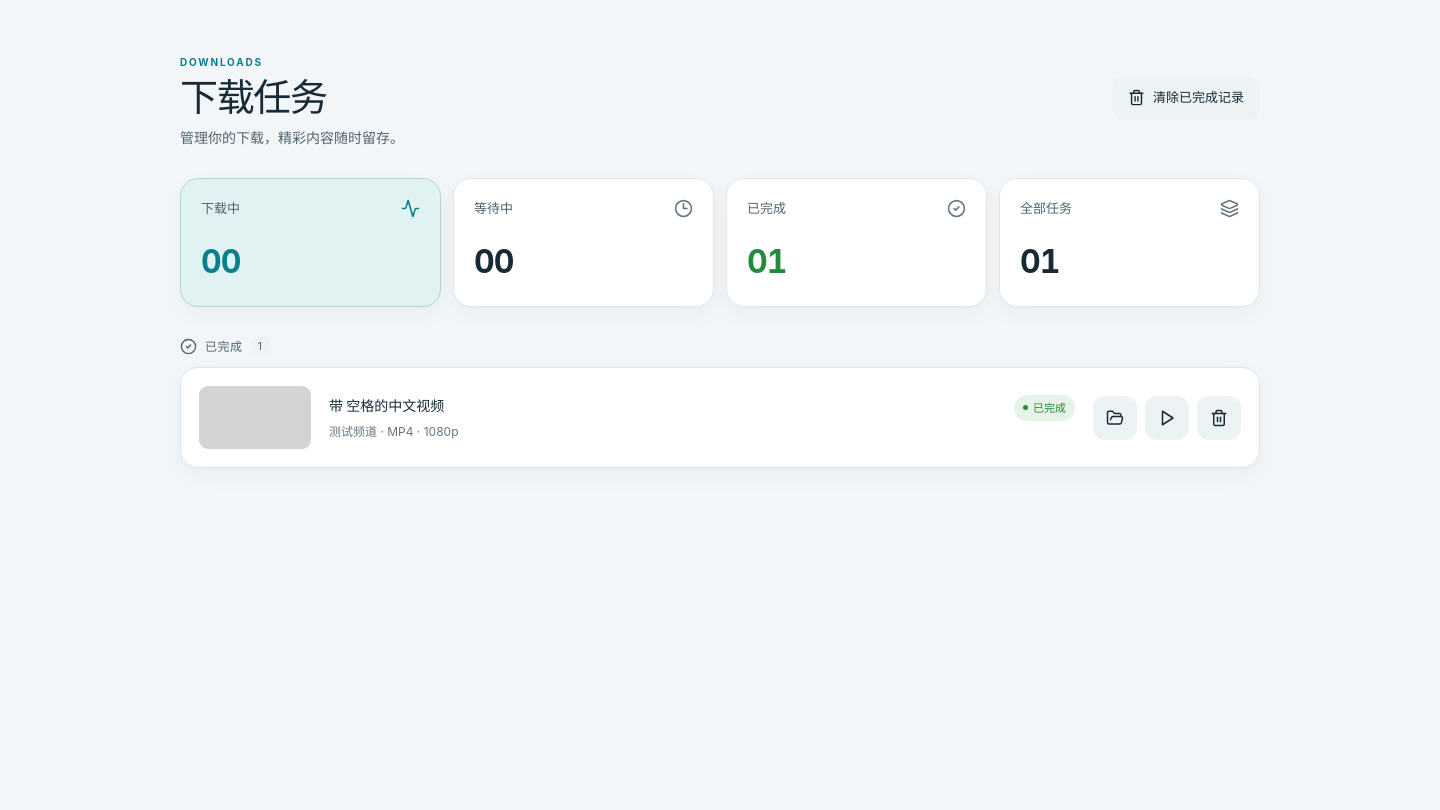
Test case: TasksView › cancels without deleting anything
Click the button named "删除任务 带 空格的中文视频" at [1219, 418], box [1197,396,1241,440]
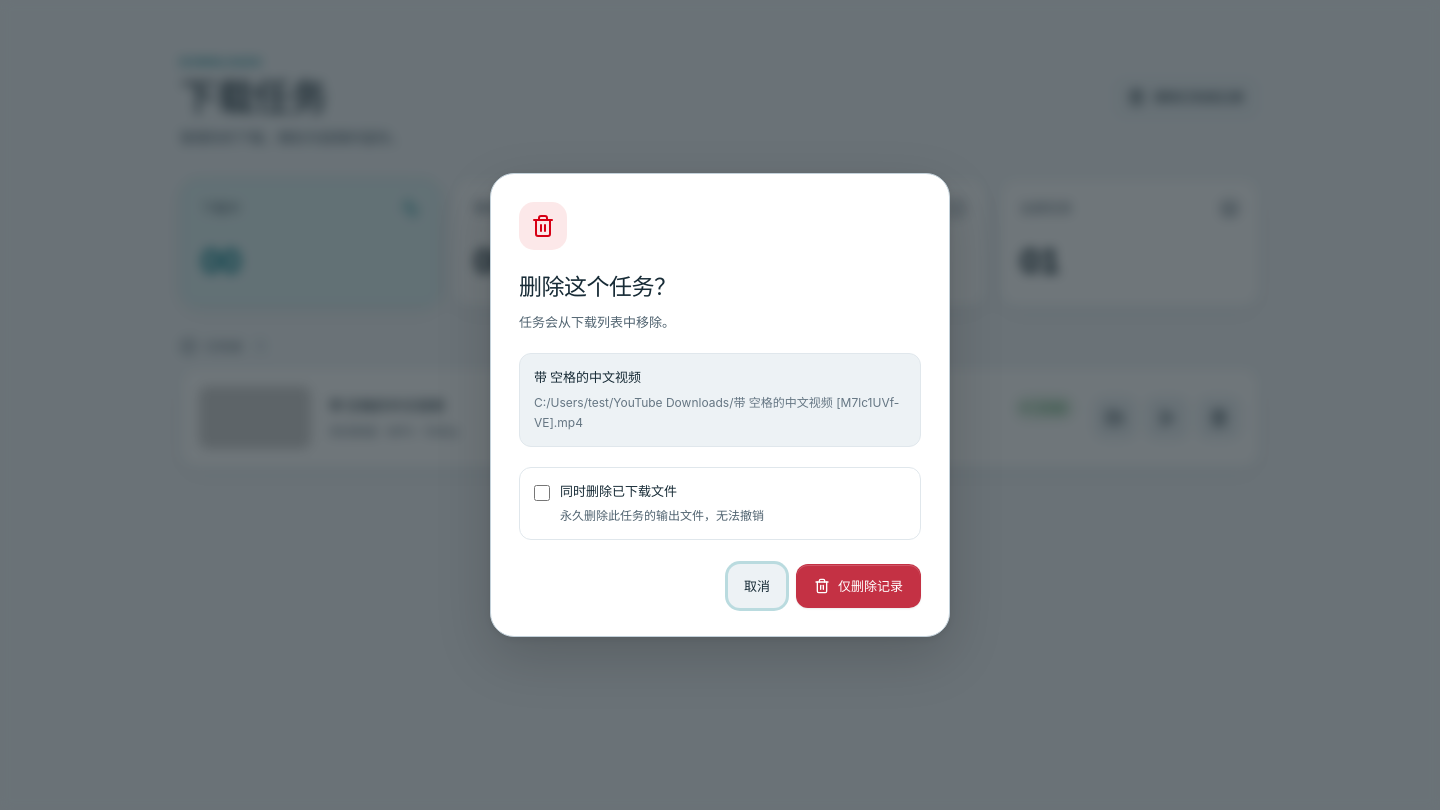
Click the button "取消" at [757, 586], box [728,564,786,608]
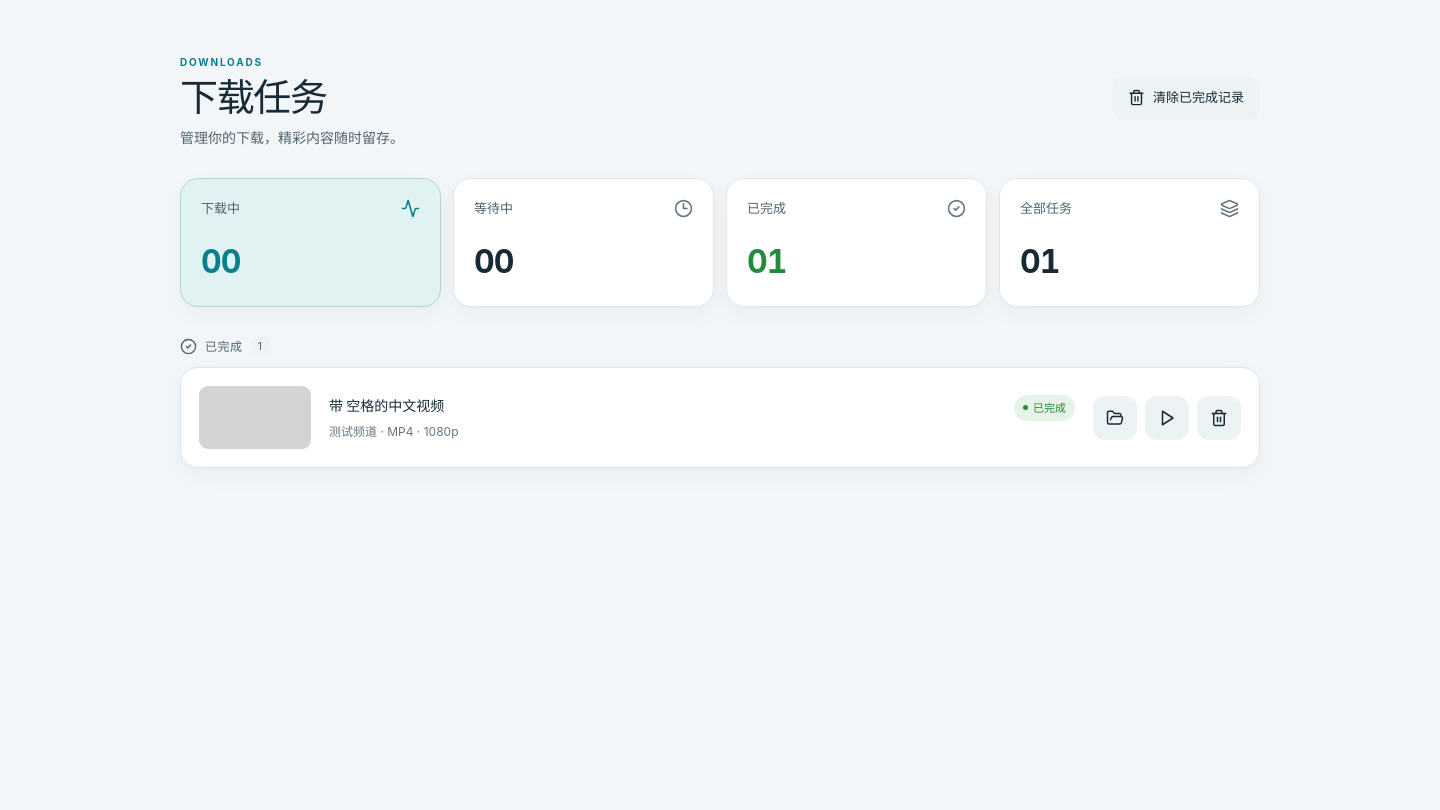
Now the dialog is gone
